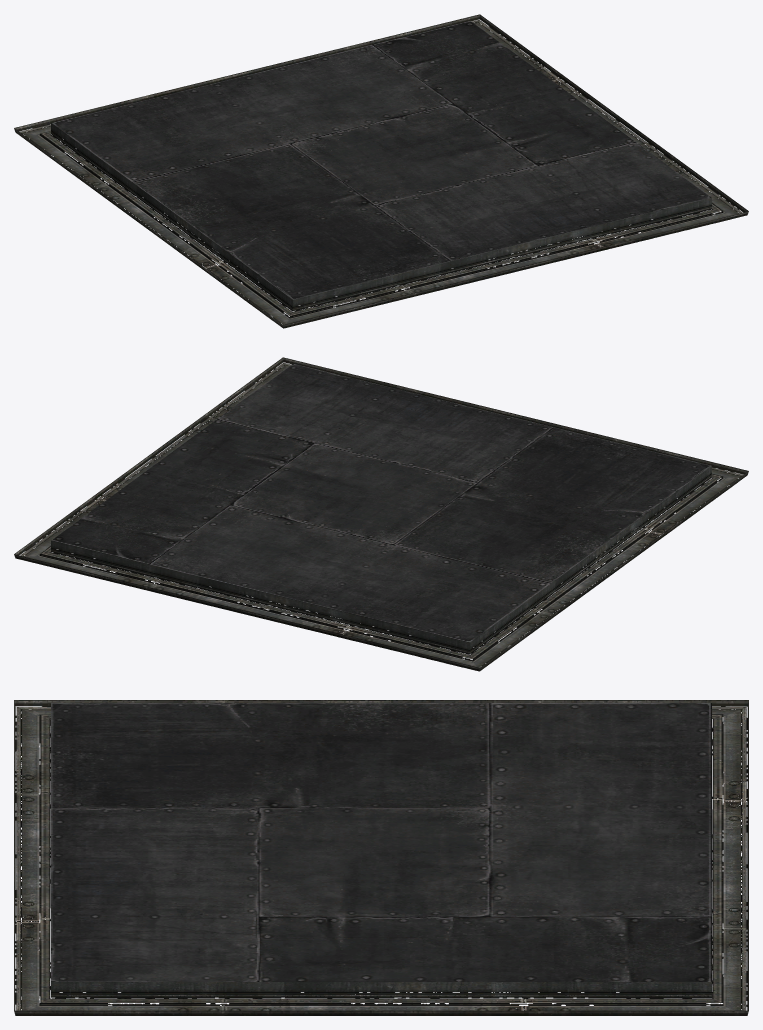
Rendered from tesla_modules1_ceiling_01.dae.
The picture shows the model from 3 angles, top to bottom: view 1: azimuth 30°, elevation 25°; view 2: azimuth 150°, elevation 25°; view 3: azimuth 270°, elevation 25°; orthographic projection. The views are drawn at different scales.
Visible parts, largest first — view 1: ceiling_01_sheets, ceiling_01_frame; view 2: ceiling_01_sheets, ceiling_01_frame; view 3: ceiling_01_sheets, ceiling_01_frame.
Part boxes in pixels (x1,y1,x2,y2): ceiling_01_sheets: (51,20,711,299); ceiling_01_frame: (14,14,748,328); ceiling_01_sheets: (51,363,711,642); ceiling_01_frame: (14,357,748,671); ceiling_01_sheets: (51,703,711,981); ceiling_01_frame: (14,700,748,1015).
Size of what is drawn, in the model's own units: 4 by 0.1132 by 4.
